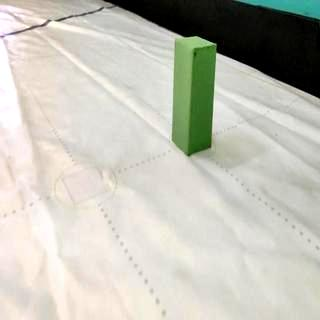greenbox: (172, 36, 218, 156)
